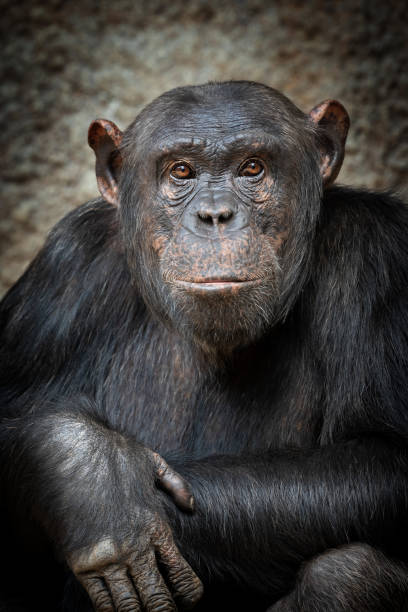chimpanzee: (52, 72, 378, 400)
